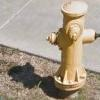Hydrant: (41, 1, 100, 98)
